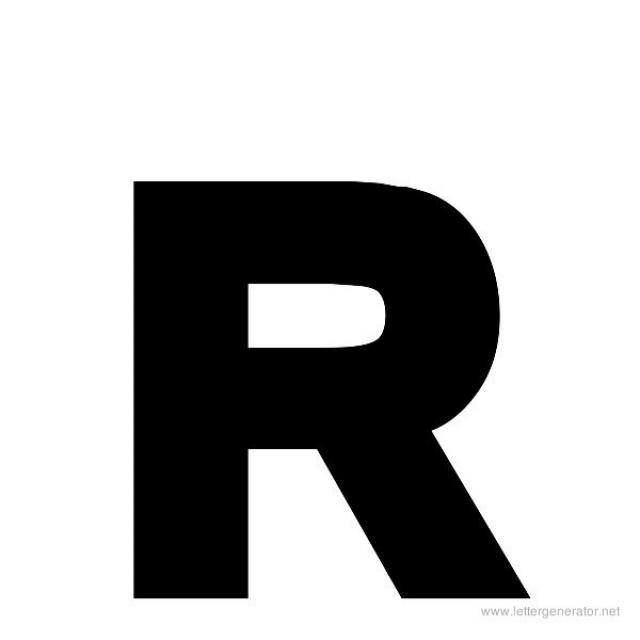R: (106, 148, 556, 636)
